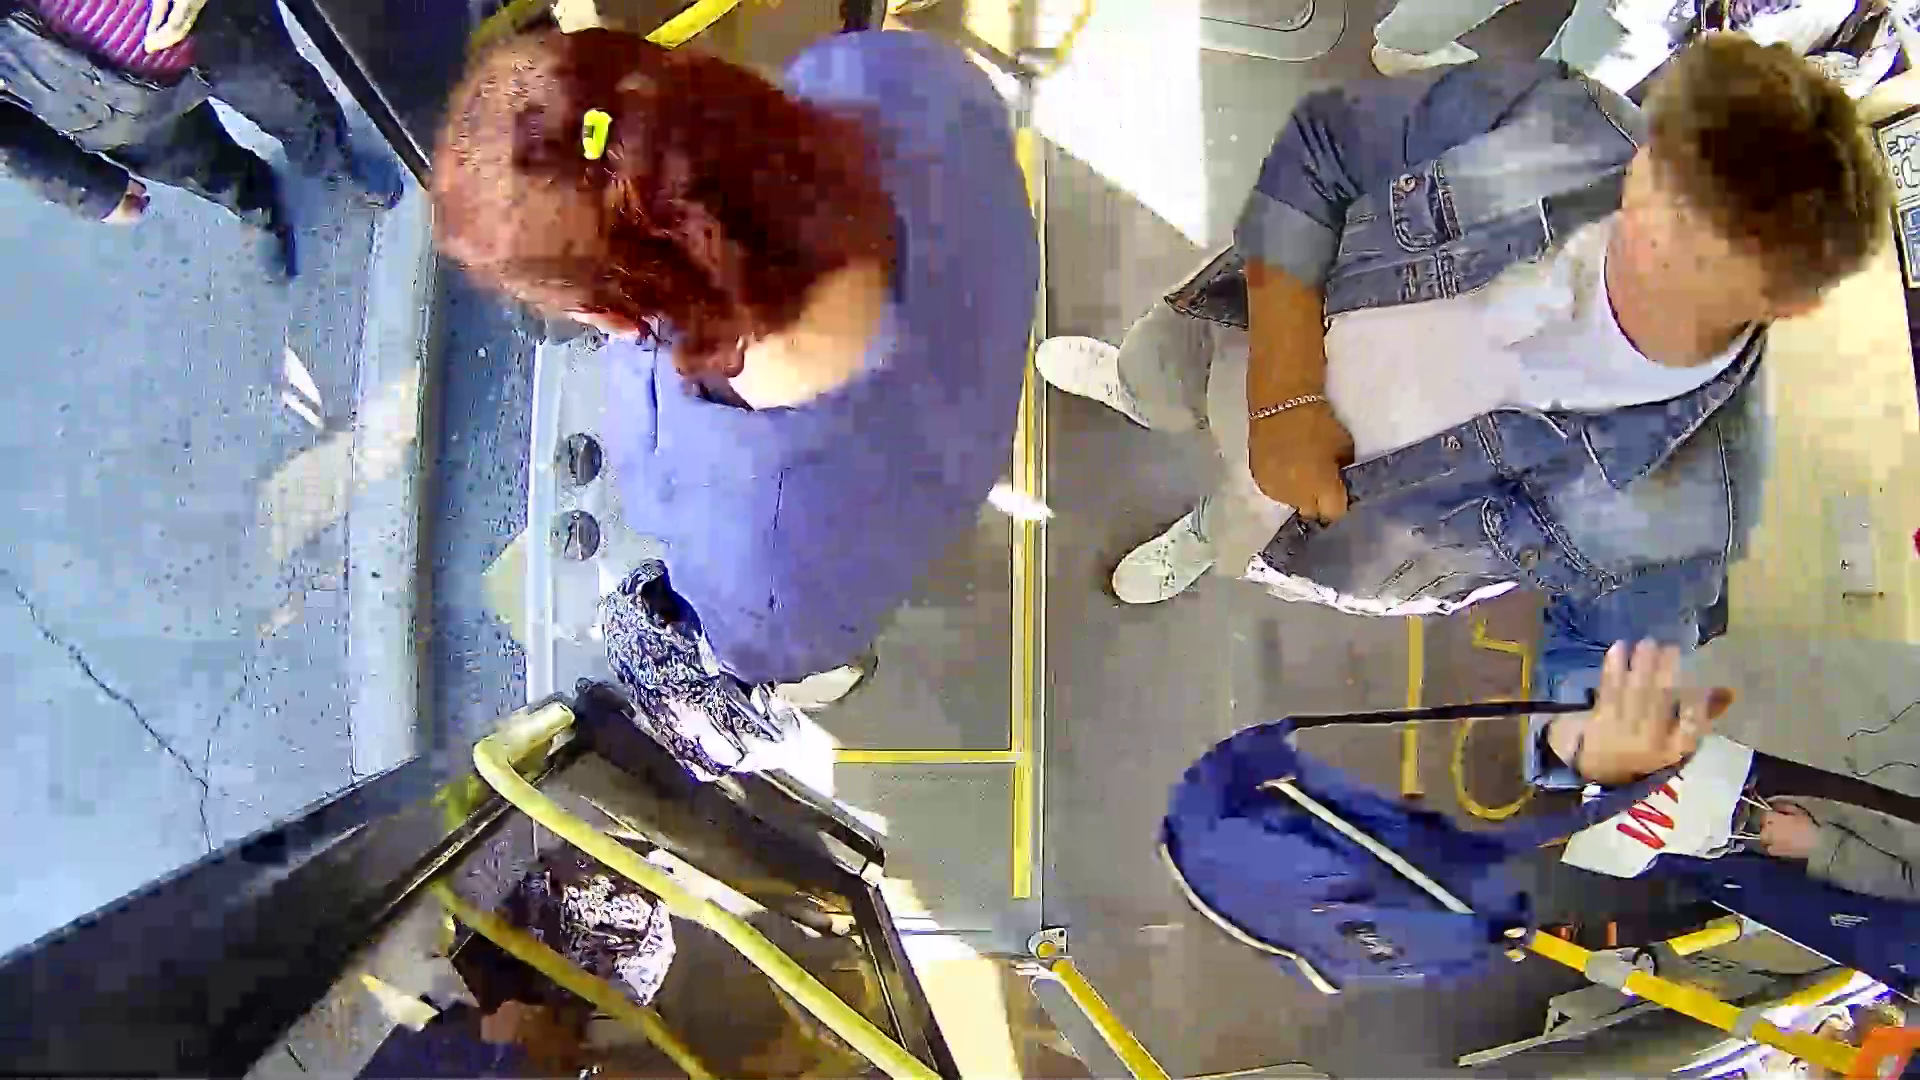person: (424, 35, 1097, 719), (1169, 47, 1877, 669)
